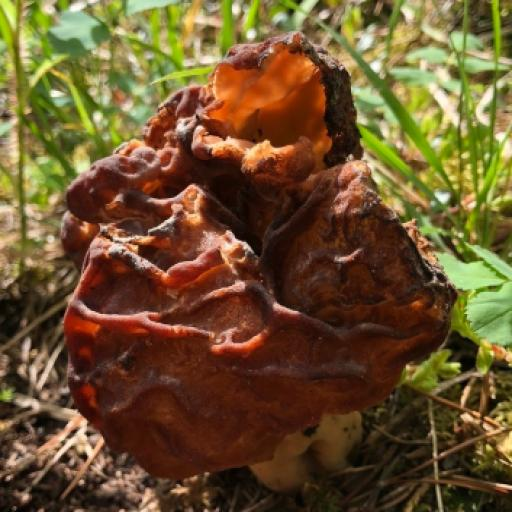False Morel: (0, 25, 481, 512)
